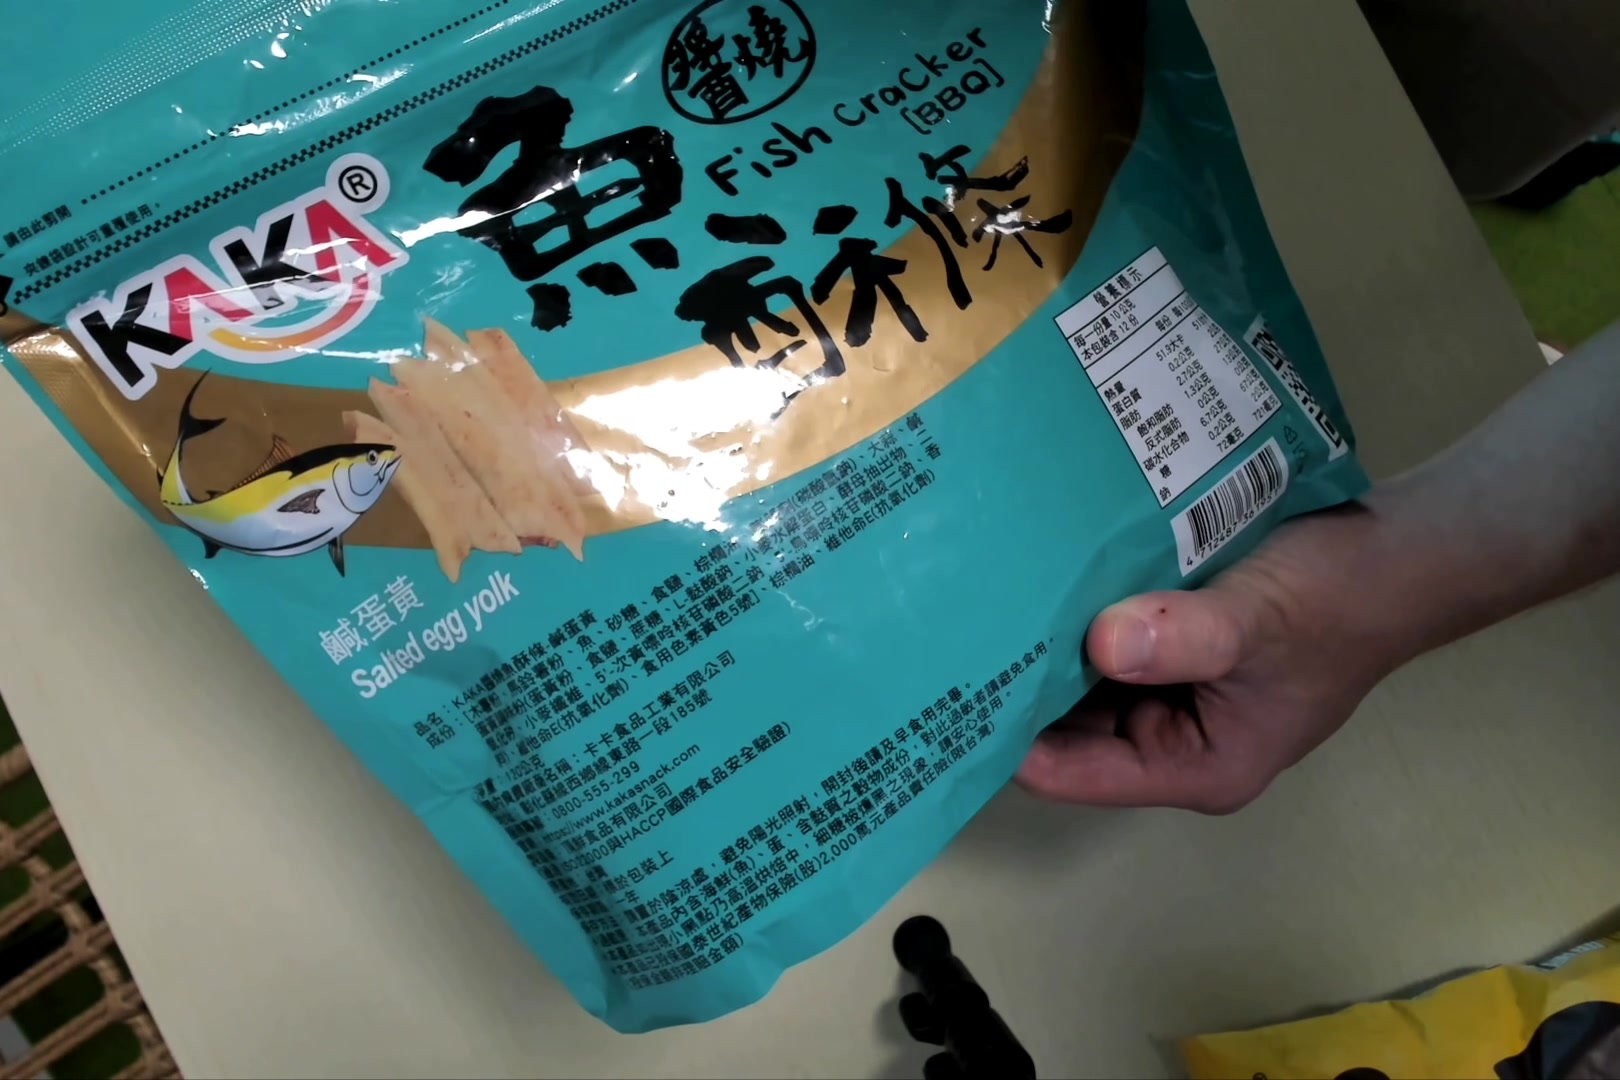PotatoChipsKeropok_100-199g_NonHalal_NonHealthy: (4, 1, 1374, 1047)
